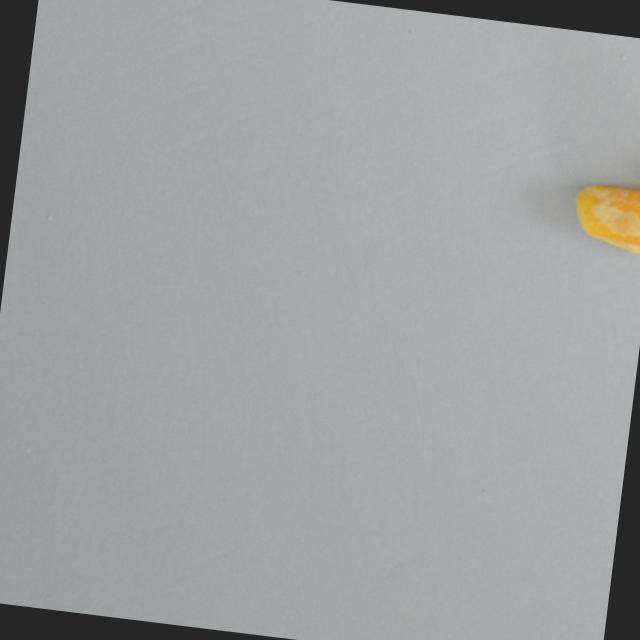pelicula: (566, 181, 640, 264)
